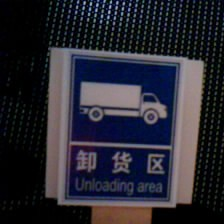unload: (54, 49, 178, 206)
